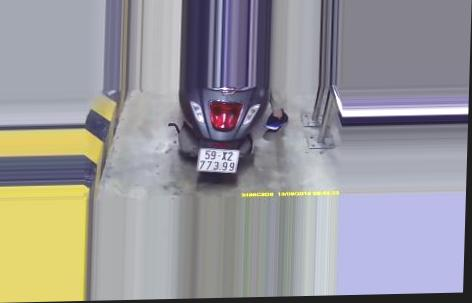License_Plate: (193, 144, 241, 178)
